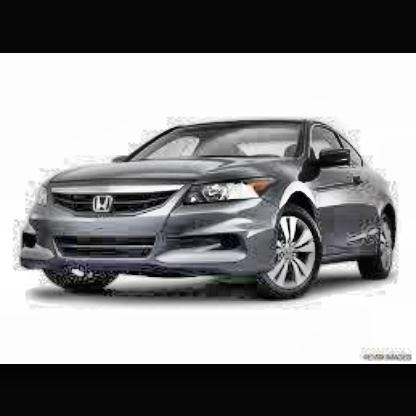Honda Accord Coupe 2012: (19, 114, 399, 298)
